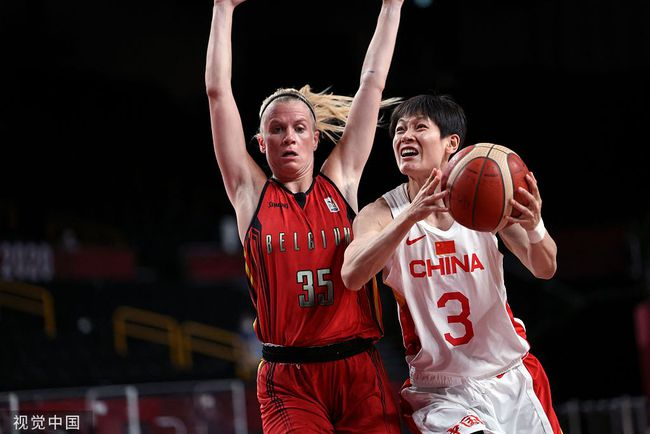ball: (441, 142, 532, 232)
